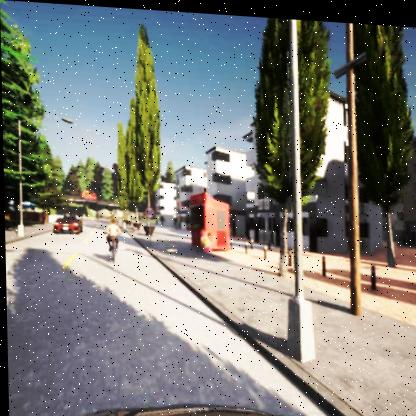bike: (103, 216, 122, 261)
vehicle: (53, 214, 81, 235)
